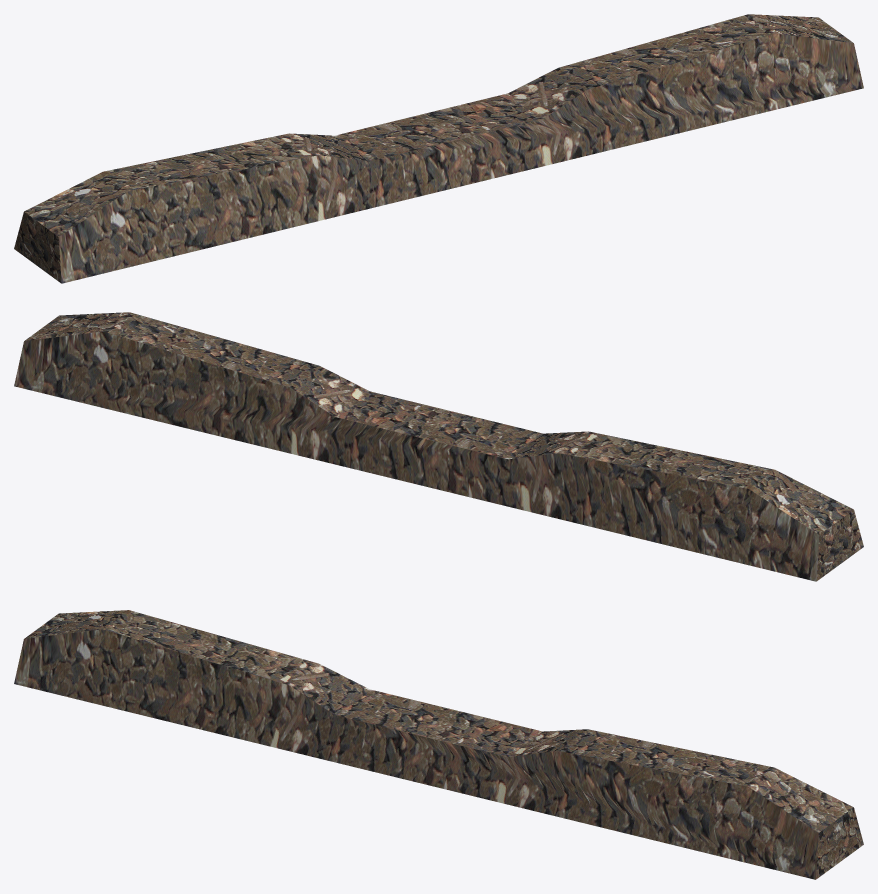
File: inbk3.obj
The picture shows the model from 3 angles, top to bottom: view 1: azimuth 30°, elevation 25°; view 2: azimuth 150°, elevation 25°; view 3: azimuth 330°, elevation 25°; orthographic projection.
Parts seen in each view (by area): view 1: Cube; view 2: Cube; view 3: Cube.
Boxes of the visible parts, x1,y1,x2,y2 form: Cube: [14, 14, 863, 283]; Cube: [14, 312, 863, 581]; Cube: [14, 610, 863, 879].
Bounding box in the file's own units: 2.49 × 0.1959 × 0.2598.
